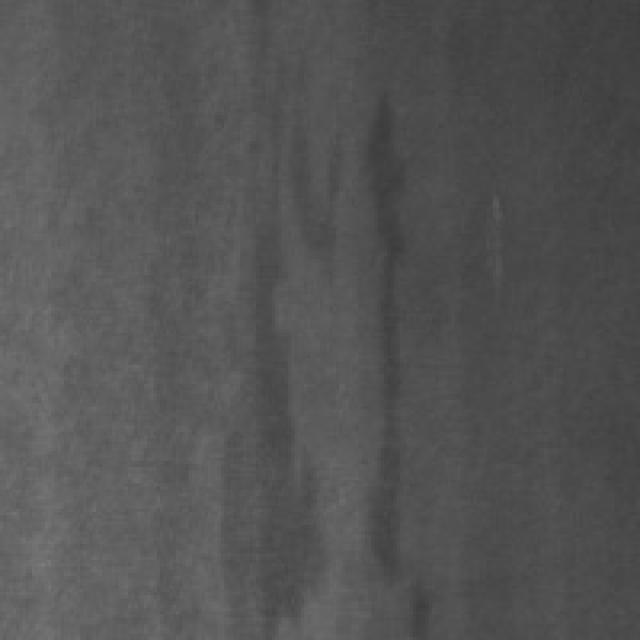inclusion: (234, 77, 355, 630), (355, 77, 435, 630)
